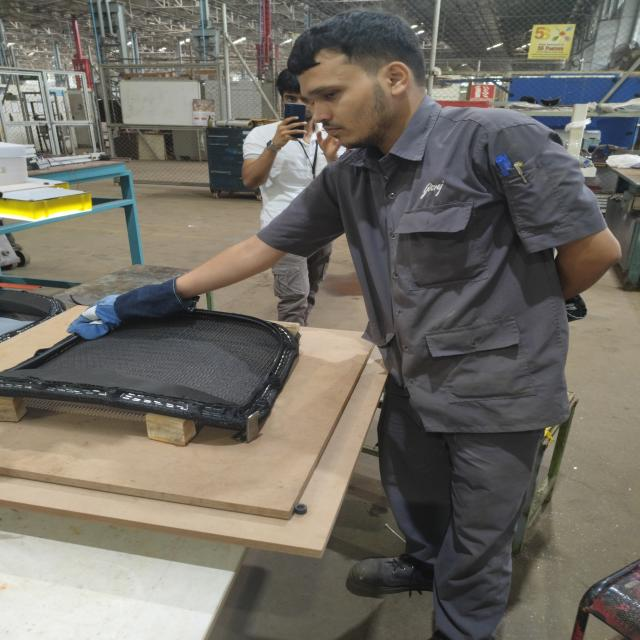Gloves-Detection: (66, 289, 192, 336)
